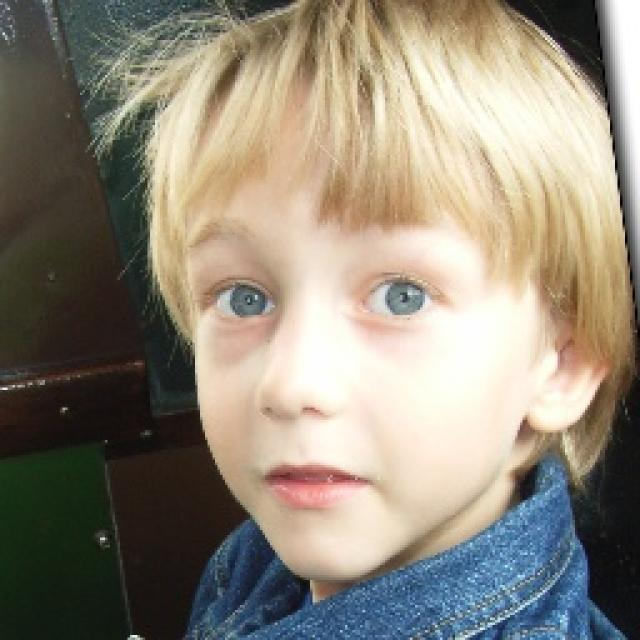earlobe: (522, 382, 570, 435)
eye: (357, 276, 438, 319), (207, 278, 278, 320)
nose: (249, 395, 341, 459)
wholeear: (523, 291, 613, 434)
